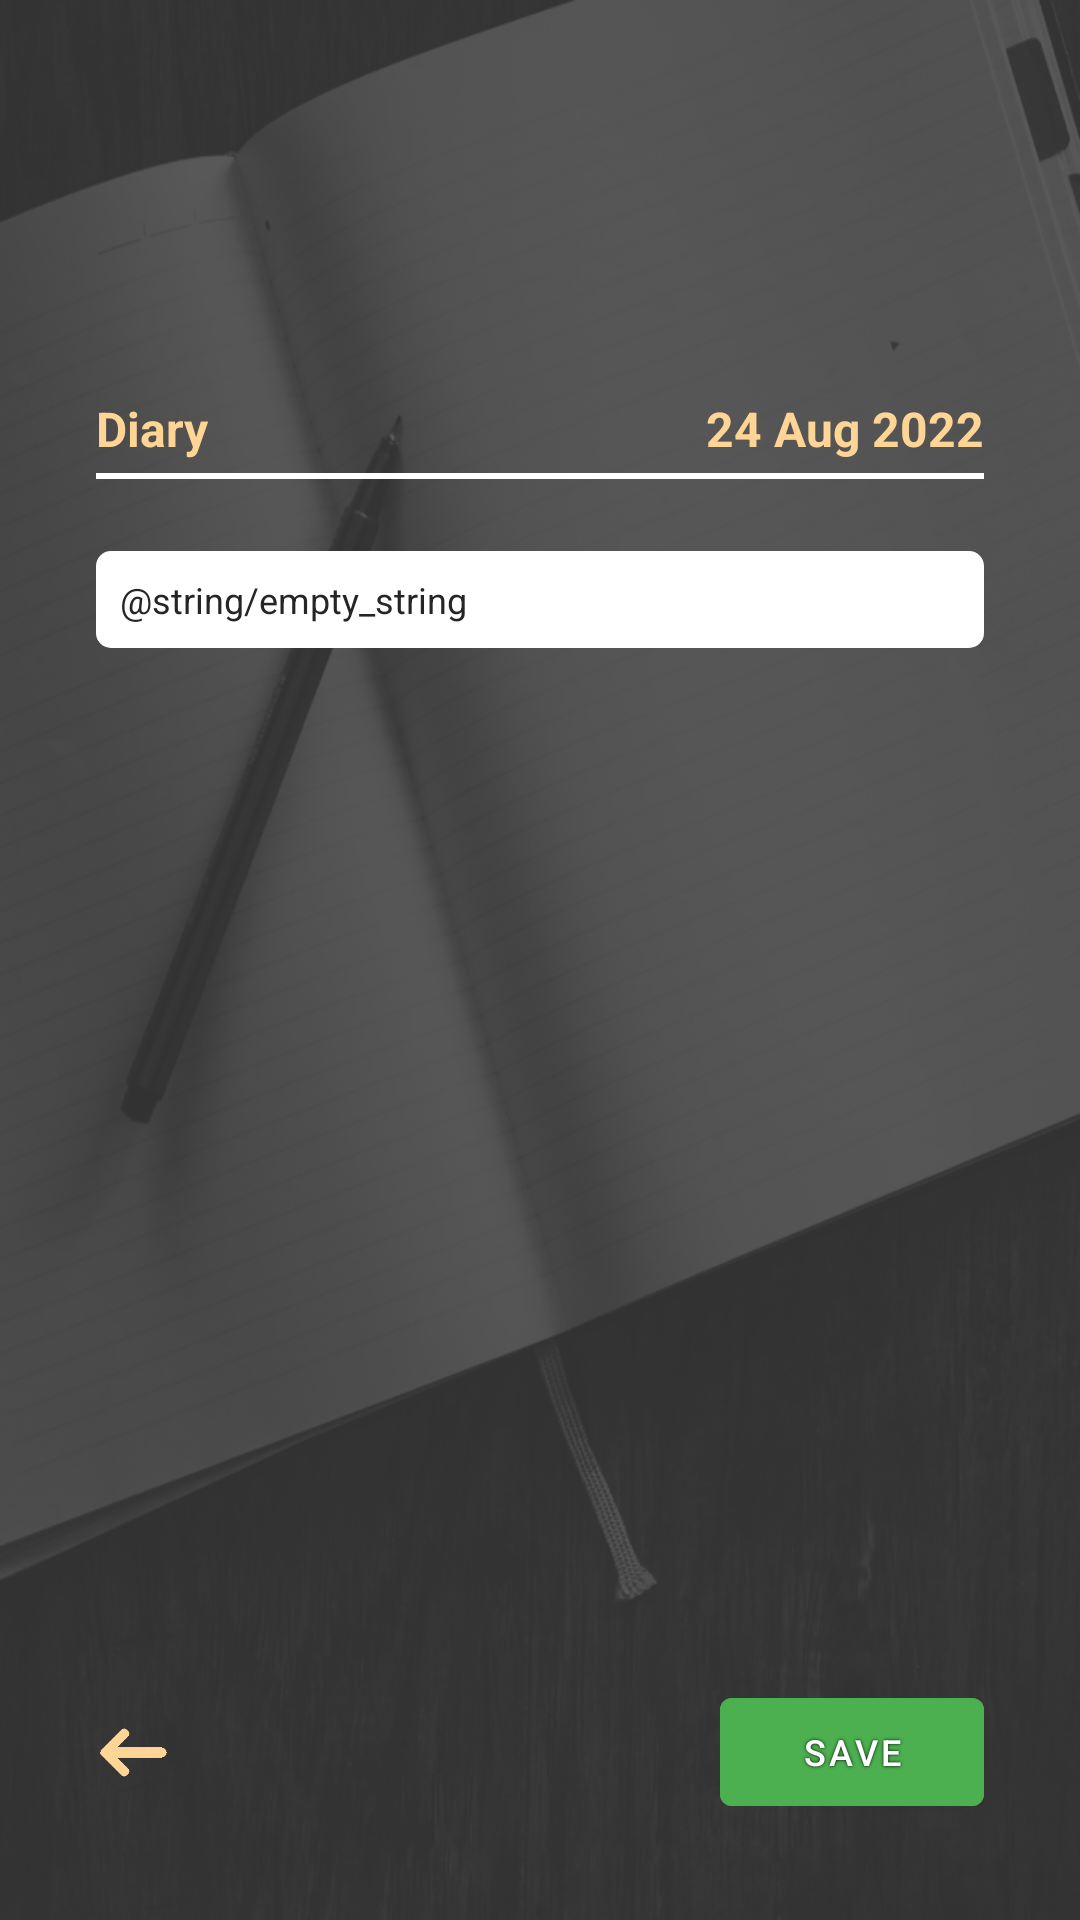

Point at icon controls on the screen. Image size 1080*1920, points as (x,y).
Back button: (133,1752)
